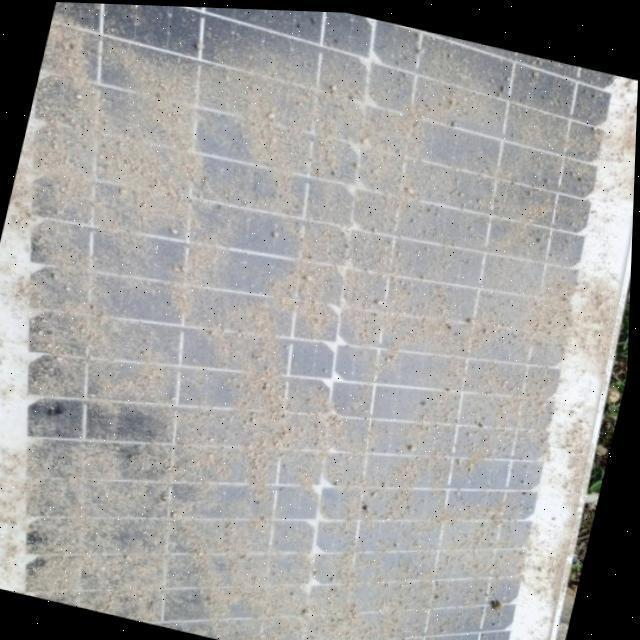Anomaly Solar Panel: (0, 0, 636, 640)
Surface Contaminant: (0, 3, 635, 640)
